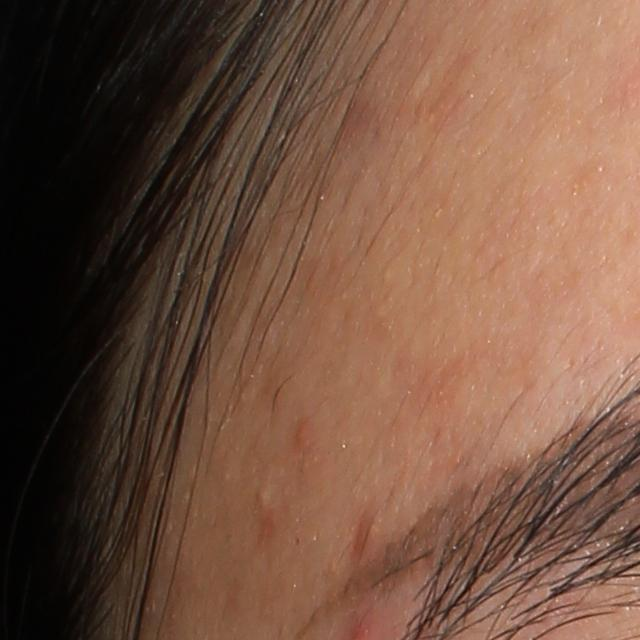comedo: (256, 486, 270, 506)
papule: (292, 418, 311, 446)
